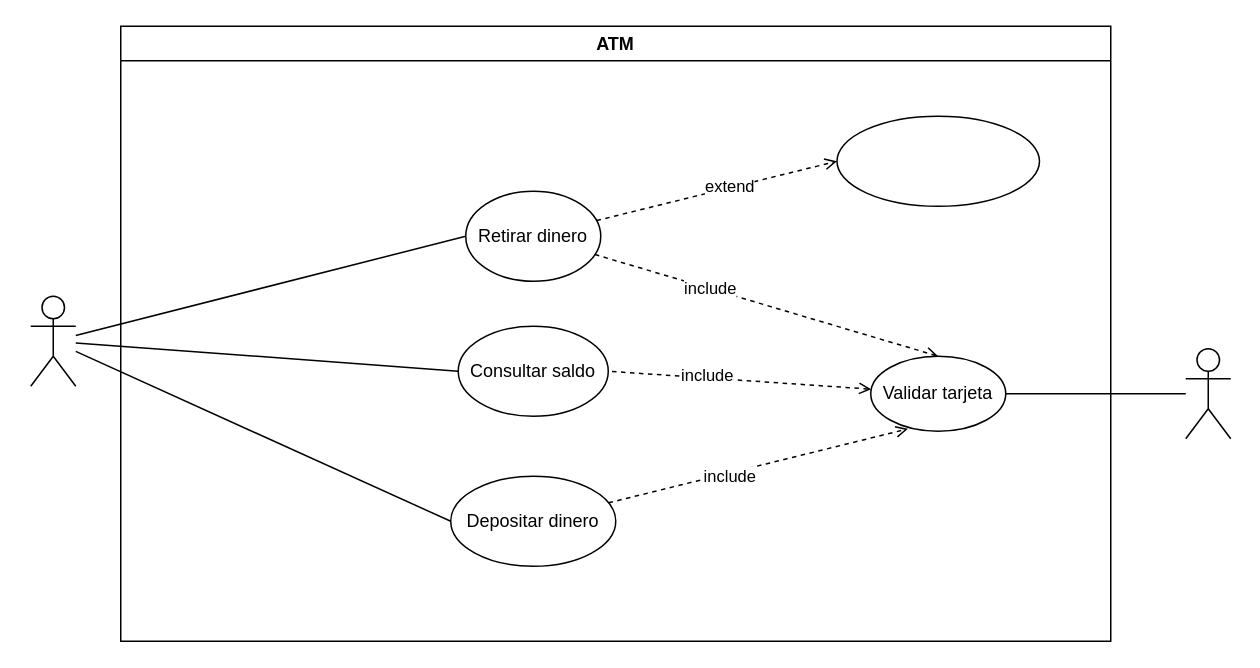
Image size: 1260x668. Some labels were removed from this diagram. The centre of each missing label's shape, as x and y in pixels:
"Banco" goes at [1207,393].
"Cliente" goes at [52,340].
"Mostrar mensaje de saldo insuficiente" goes at [938,160].
